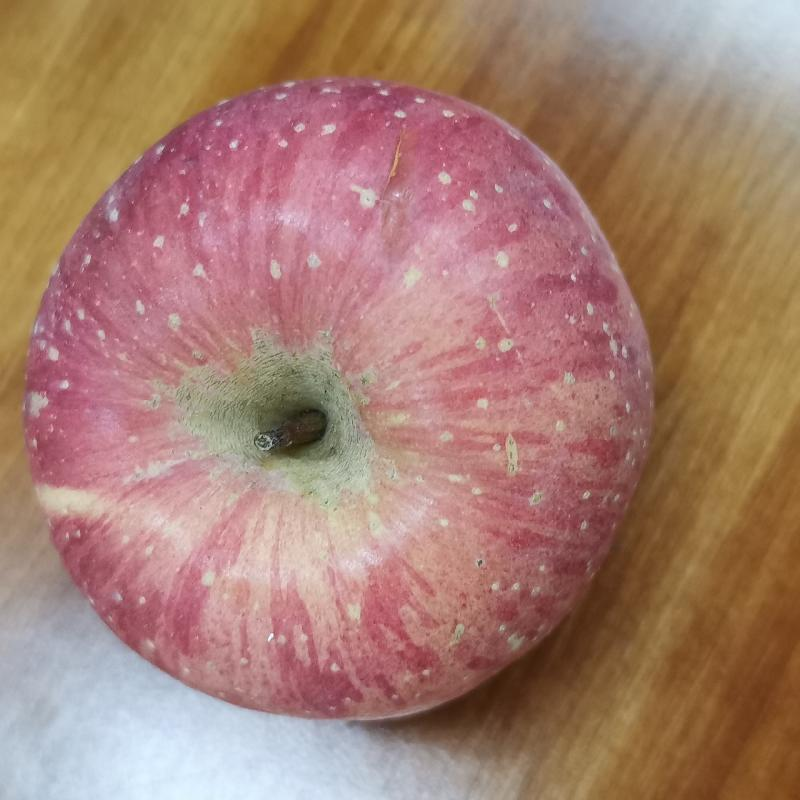apples: (96, 213, 537, 626)
